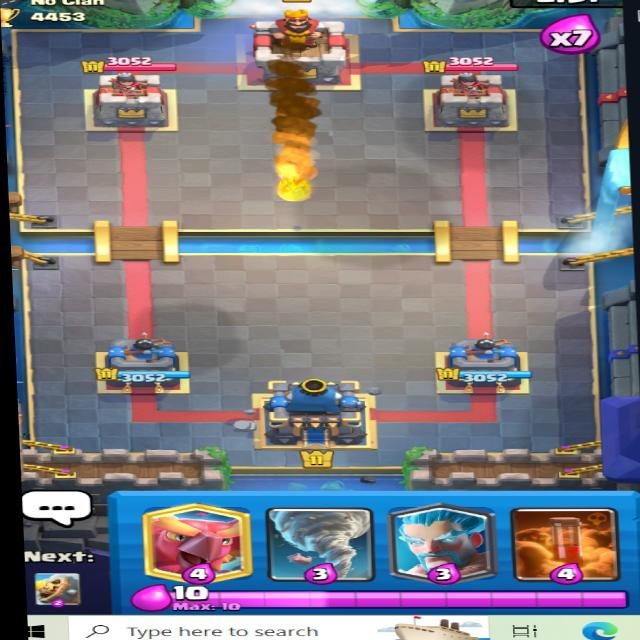fireball: (256, 74, 350, 205)
